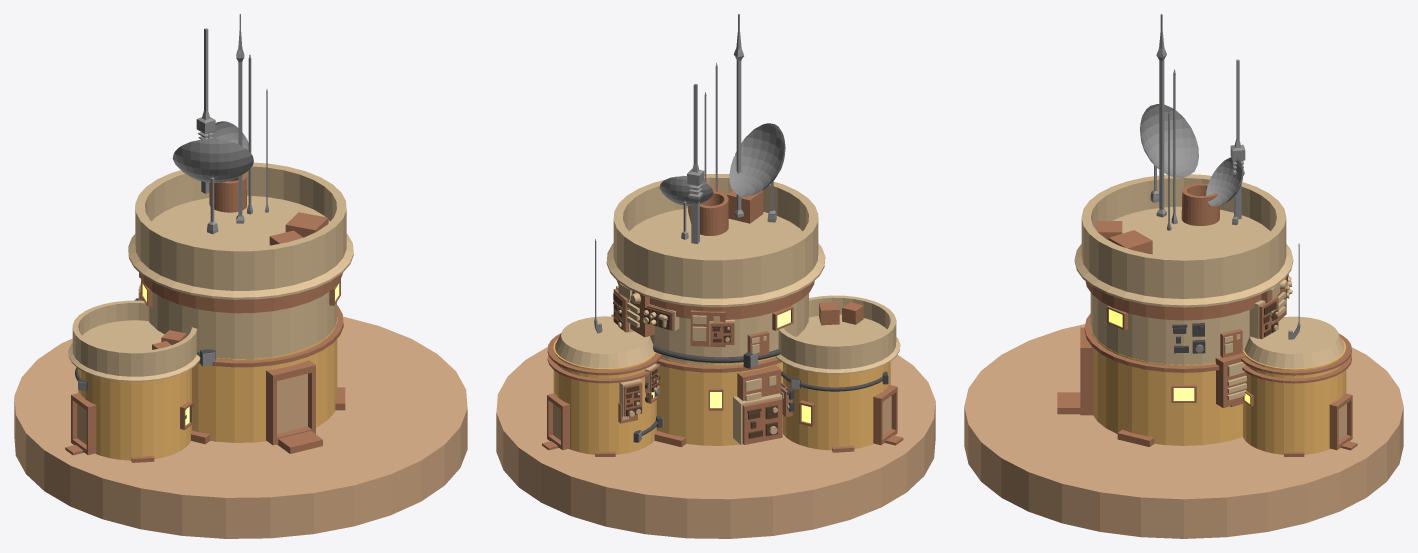
The model's file is nomad_building_15.fbx.
3 renders of one model, left to right at view 1: azimuth 30°, elevation 25°; view 2: azimuth 150°, elevation 25°; view 3: azimuth 270°, elevation 25°, orthographic. The views are drawn at different scales.
Visible parts, largest first — view 1: B15_M_Foundation_foundation, B15_M_Crown_RoofDeck_Ringwall, B15_M_Drum0, B15_M_Drum1, B15_A2_Crown_RoofDeck_Ringwall, B15_A2_Drum0, B15_M_Dish1_AntennaDish_Reflector, B15_M_Ring10_TowerTrim_BandTall, B15_M_Door_Door_Frame, B15_M_Door_Door_Leaf, B15_M_Ring00_TowerTrim_BandThin, B15_A2_Door_Door_Frame (+7 smaller); view 2: B15_M_Foundation_foundation, B15_M_Crown_RoofDeck_Ringwall, B15_A2_Crown_RoofDeck_Ringwall, B15_A2_Drum0, B15_A1_Drum0, B15_M_Drum0, B15_A1_Crown_TowerBody_RoofCap, B15_M_Drum1, B15_M_Dish1_AntennaDish_Reflector, B15_M_Ring10_TowerTrim_BandTall, B15_M_Mast3_AntennaMast_Bulky, B15_M_Gear8_MeterBox_Face (+14 smaller); view 3: B15_M_Foundation_foundation, B15_M_Crown_RoofDeck_Ringwall, B15_M_Drum0, B15_A1_Drum0, B15_M_Drum1, B15_A1_Crown_TowerBody_RoofCap, B15_M_Dish1_AntennaDish_Reflector, B15_M_Ring10_TowerTrim_BandTall, B15_M_Stack0_TowerBody_StackWide, B15_M_Dish0_AntennaDish_Reflector, B15_M_Mast2_AntennaMast_Tall, B15_M_Ring00_TowerTrim_BandThin (+8 smaller).
Boxes of the visible parts, x1=… form: B15_M_Foundation_foundation: x1=14, y1=316, x2=467, y2=538; B15_M_Crown_RoofDeck_Ringwall: x1=128, y1=162, x2=353, y2=299; B15_M_Drum0: x1=192, y1=317, x2=337, y2=442; B15_M_Drum1: x1=148, y1=292, x2=336, y2=358; B15_A2_Crown_RoofDeck_Ringwall: x1=68, y1=300, x2=200, y2=381; B15_A2_Drum0: x1=78, y1=368, x2=191, y2=460; B15_M_Dish1_AntennaDish_Reflector: x1=172, y1=138, x2=253, y2=182; B15_M_Ring10_TowerTrim_BandTall: x1=139, y1=272, x2=343, y2=313; B15_M_Door_Door_Frame: x1=266, y1=360, x2=315, y2=445; B15_M_Door_Door_Leaf: x1=277, y1=373, x2=307, y2=433; B15_M_Ring00_TowerTrim_BandThin: x1=198, y1=305, x2=343, y2=367; B15_A2_Door_Door_Frame: x1=71, y1=393, x2=96, y2=455; B15_M_Foundation_foundation: x1=496, y1=347, x2=935, y2=538; B15_M_Crown_RoofDeck_Ringwall: x1=606, y1=174, x2=825, y2=307; B15_A2_Crown_RoofDeck_Ringwall: x1=775, y1=295, x2=900, y2=374; B15_A2_Drum0: x1=783, y1=361, x2=890, y2=450; B15_A1_Drum0: x1=553, y1=338, x2=656, y2=454; B15_M_Drum0: x1=656, y1=356, x2=782, y2=445; B15_A1_Crown_TowerBody_RoofCap: x1=555, y1=316, x2=654, y2=368; B15_M_Drum1: x1=650, y1=293, x2=808, y2=364; B15_M_Dish1_AntennaDish_Reflector: x1=729, y1=123, x2=785, y2=196; B15_M_Ring10_TowerTrim_BandTall: x1=617, y1=281, x2=814, y2=319; B15_M_Mast3_AntennaMast_Bulky: x1=687, y1=84, x2=704, y2=243; B15_M_Gear8_MeterBox_Face: x1=742, y1=398, x2=782, y2=444; B15_M_Foundation_foundation: x1=964, y1=324, x2=1403, y2=538; B15_M_Crown_RoofDeck_Ringwall: x1=1074, y1=174, x2=1293, y2=307; B15_M_Drum0: x1=1090, y1=325, x2=1242, y2=445; B15_A1_Drum0: x1=1243, y1=338, x2=1346, y2=454; B15_M_Drum1: x1=1090, y1=292, x2=1249, y2=364; B15_A1_Crown_TowerBody_RoofCap: x1=1244, y1=316, x2=1344, y2=368; B15_M_Dish1_AntennaDish_Reflector: x1=1140, y1=104, x2=1198, y2=177; B15_M_Ring10_TowerTrim_BandTall: x1=1085, y1=281, x2=1261, y2=320; B15_M_Stack0_TowerBody_StackWide: x1=1181, y1=183, x2=1219, y2=225; B15_M_Dish0_AntennaDish_Reflector: x1=1206, y1=157, x2=1243, y2=206; B15_M_Mast2_AntennaMast_Tall: x1=1156, y1=14, x2=1166, y2=217; B15_M_Ring00_TowerTrim_BandThin: x1=1084, y1=313, x2=1219, y2=372.
Size of the model in its own units: 522 by 559 by 522.
